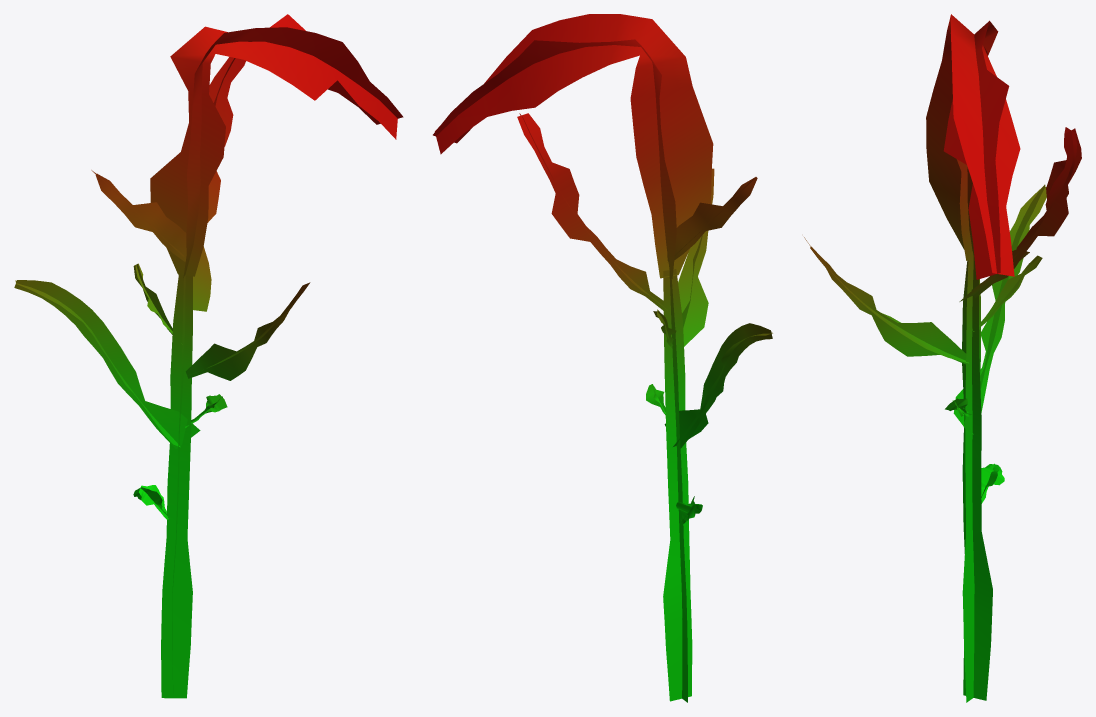
The model's file is Var2_LOD0.fbx.
The picture shows the model from 3 angles, left to right: view 1: azimuth 30°, elevation 25°; view 2: azimuth 150°, elevation 25°; view 3: azimuth 270°, elevation 25°; orthographic projection. The views are drawn at different scales.
Visible parts, largest first — view 1: _2a0a_Var2_LOD0; view 2: _2a0a_Var2_LOD0; view 3: _2a0a_Var2_LOD0.
Part boxes in pixels (left/top/right/bottom): _2a0a_Var2_LOD0: left=14, top=14, right=403, bottom=698; _2a0a_Var2_LOD0: left=433, top=14, right=772, bottom=702; _2a0a_Var2_LOD0: left=804, top=14, right=1081, bottom=702.
Bounding box in the file's own units: 35.37 × 61.58 × 22.16.
